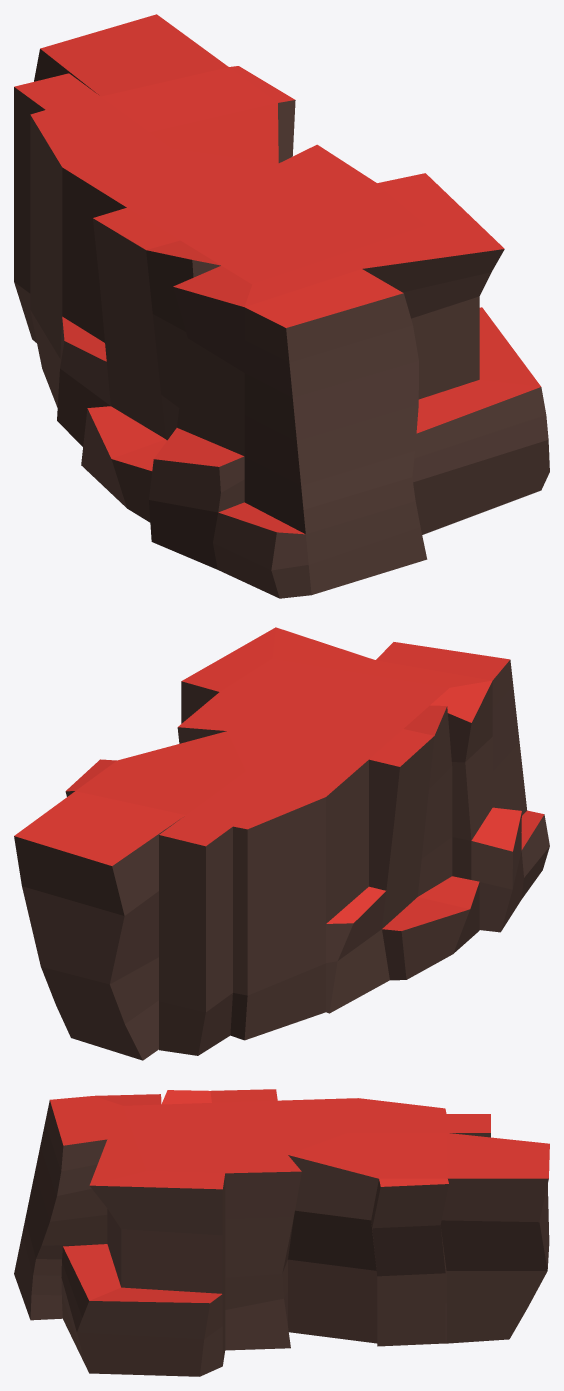
Rendered from Cliff_05.fbx.
The picture shows the model from 3 angles, top to bottom: view 1: azimuth 30°, elevation 25°; view 2: azimuth 150°, elevation 25°; view 3: azimuth 270°, elevation 25°; orthographic projection. The views are drawn at different scales.
Visible parts, largest first — view 1: Cliff_05; view 2: Cliff_05; view 3: Cliff_05.
Boxes of the visible parts, box(x1,y1,x2,y2) form: Cliff_05: box(14, 14, 549, 598); Cliff_05: box(14, 627, 549, 1060); Cliff_05: box(14, 1089, 549, 1376).
Bounding box in the file's own units: 1383 × 912 × 2406.
